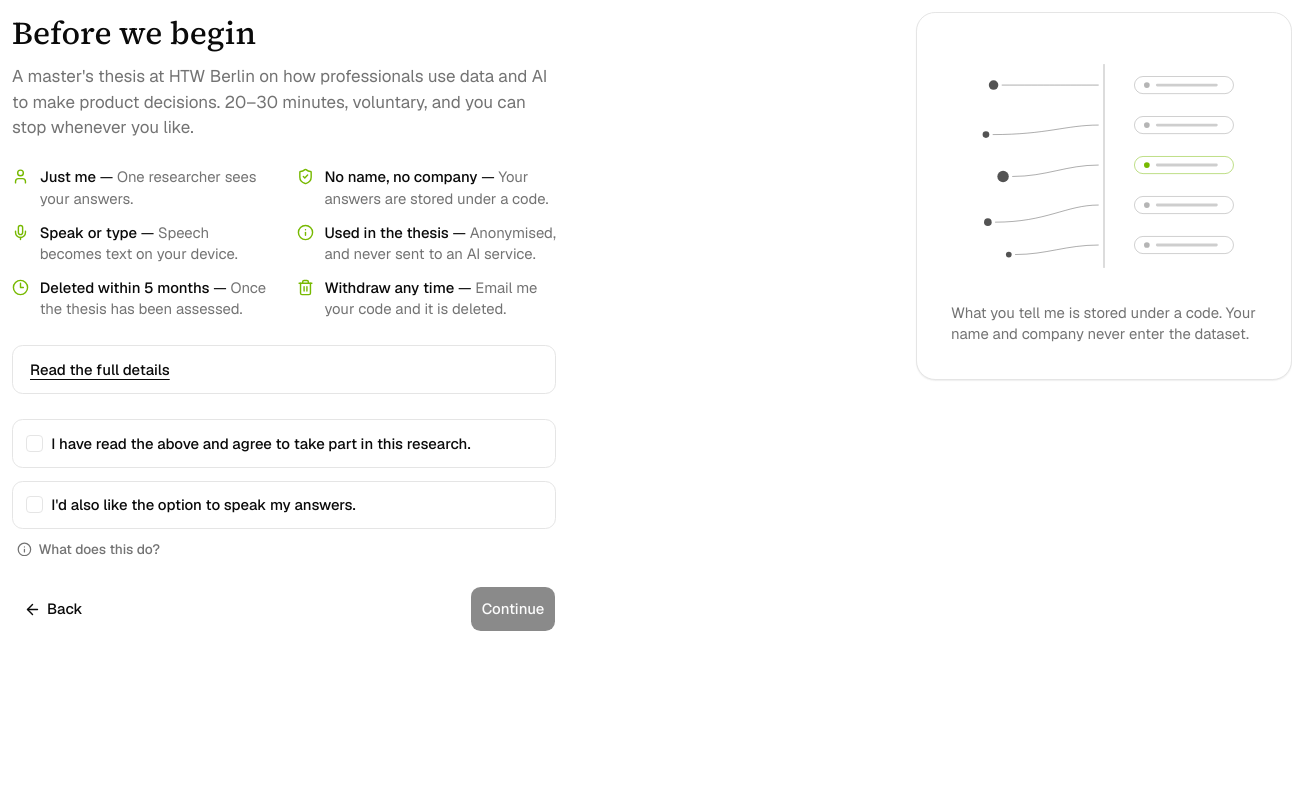
Scenario: ConsentScreen › explains what the speech option does before asking for it
This screenshot has width=1292, height=812.
Click the button "What does this do?".
click(89, 549)  # box [16,538,161,560]
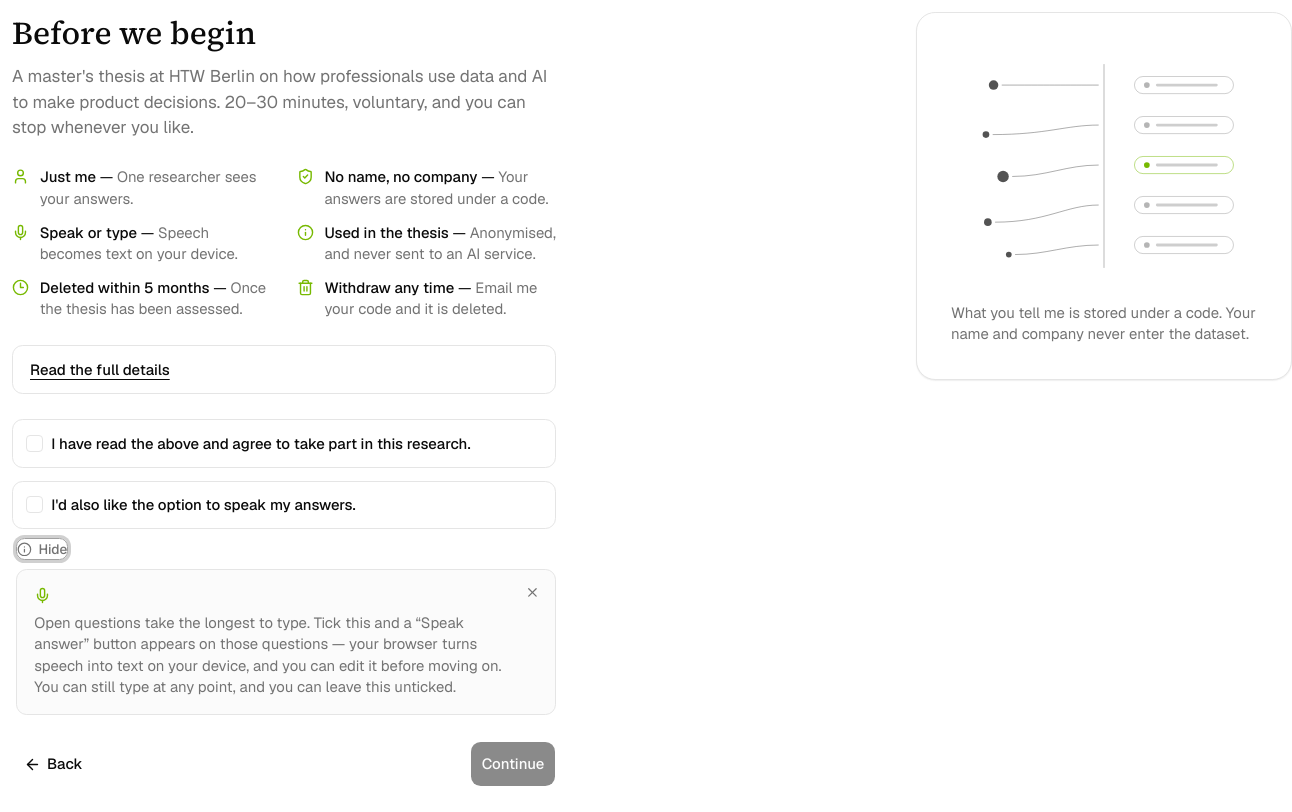
Check: the text "a “Speak answer” button appears" is shown, box [34,613,502,696]
Check: the button named "hide explanation" is shown, box [521,580,544,604]
